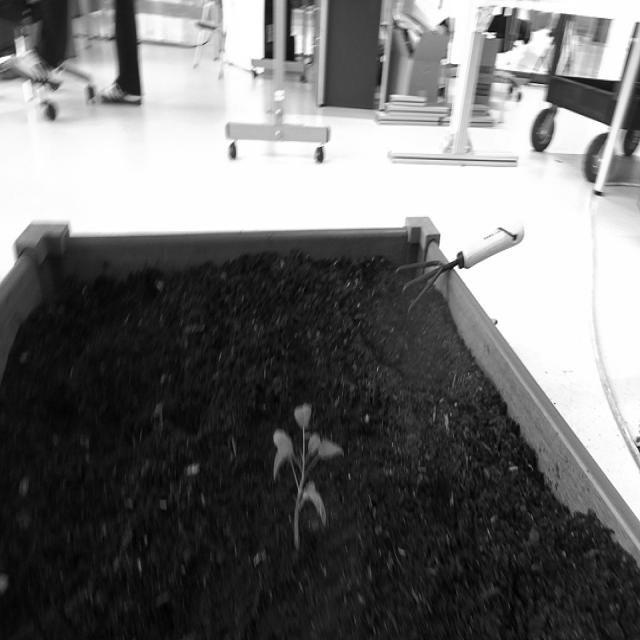Healthy: (269, 398, 347, 558)
